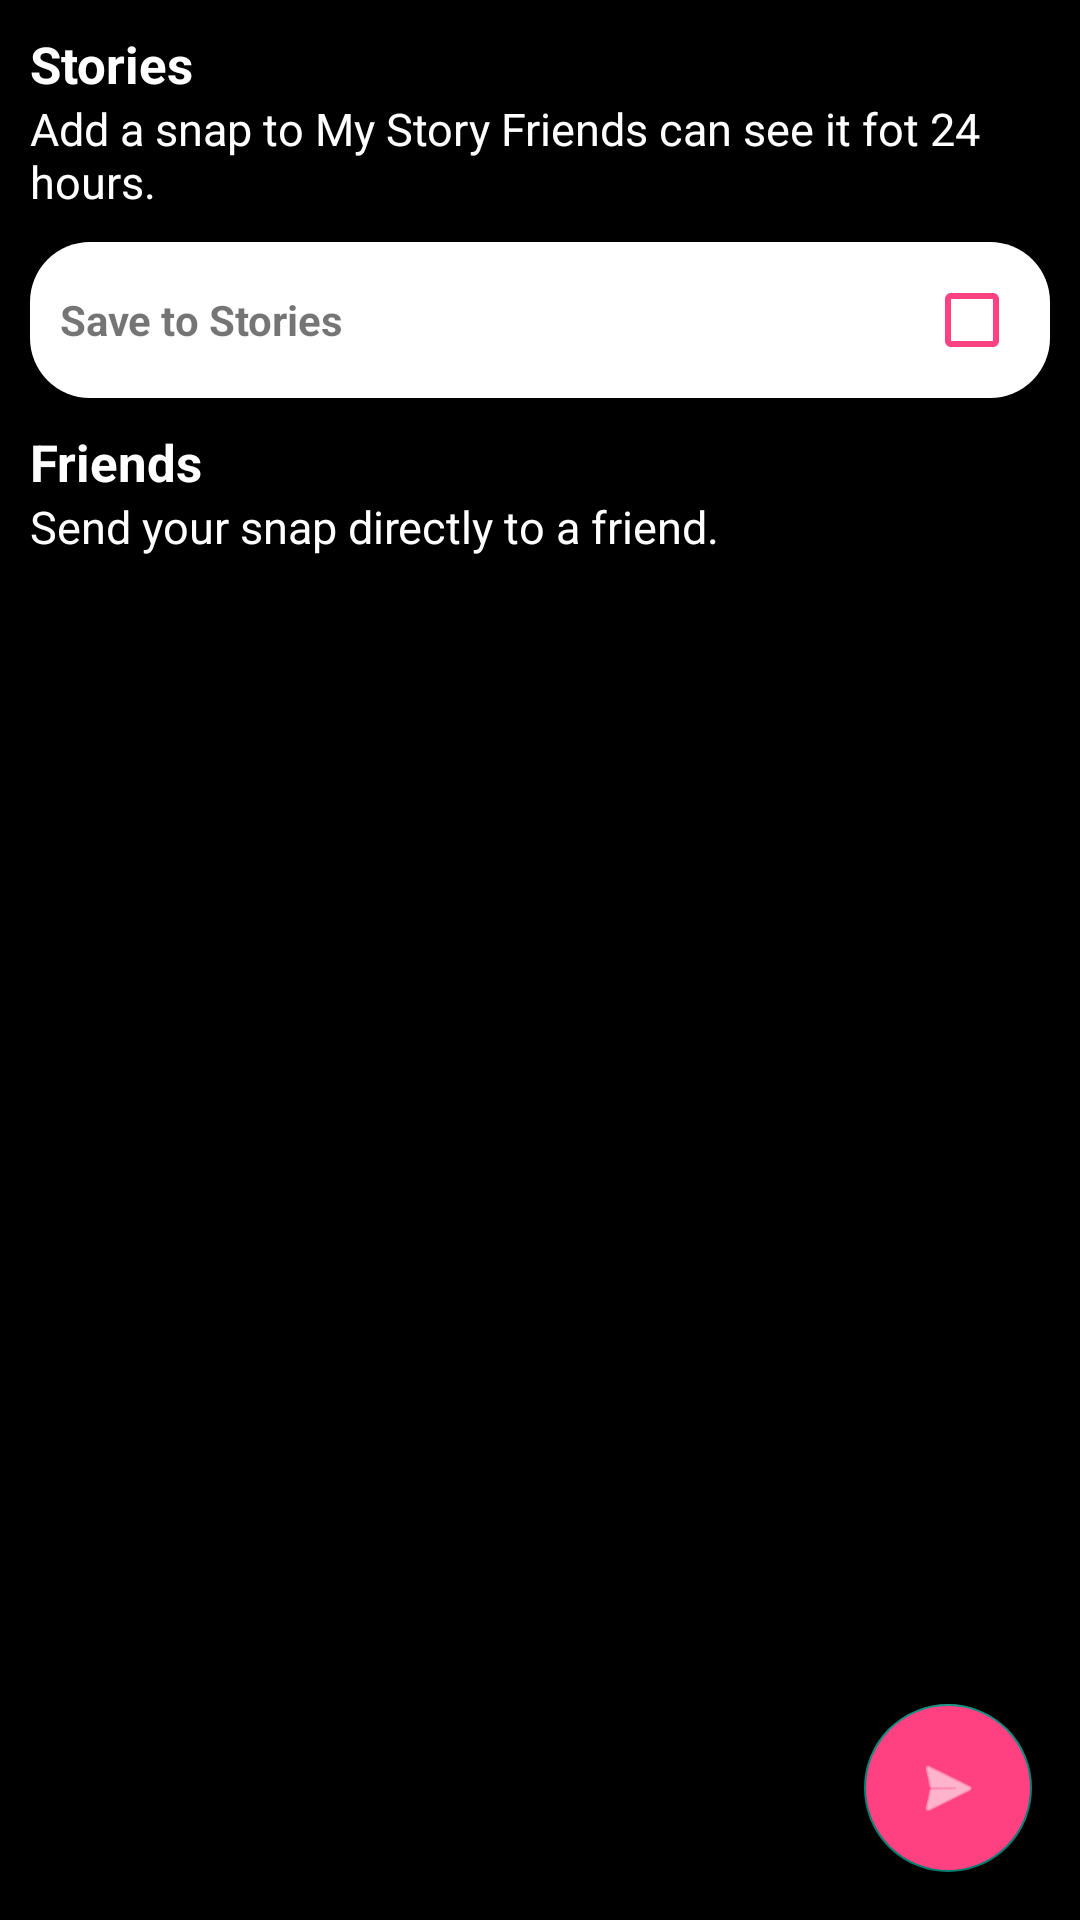

Icon bounding boxes for this 1080px x 1920px phone screenshot, format (x1, y1, x2, y2):
send: (864, 1704, 1032, 1872)
